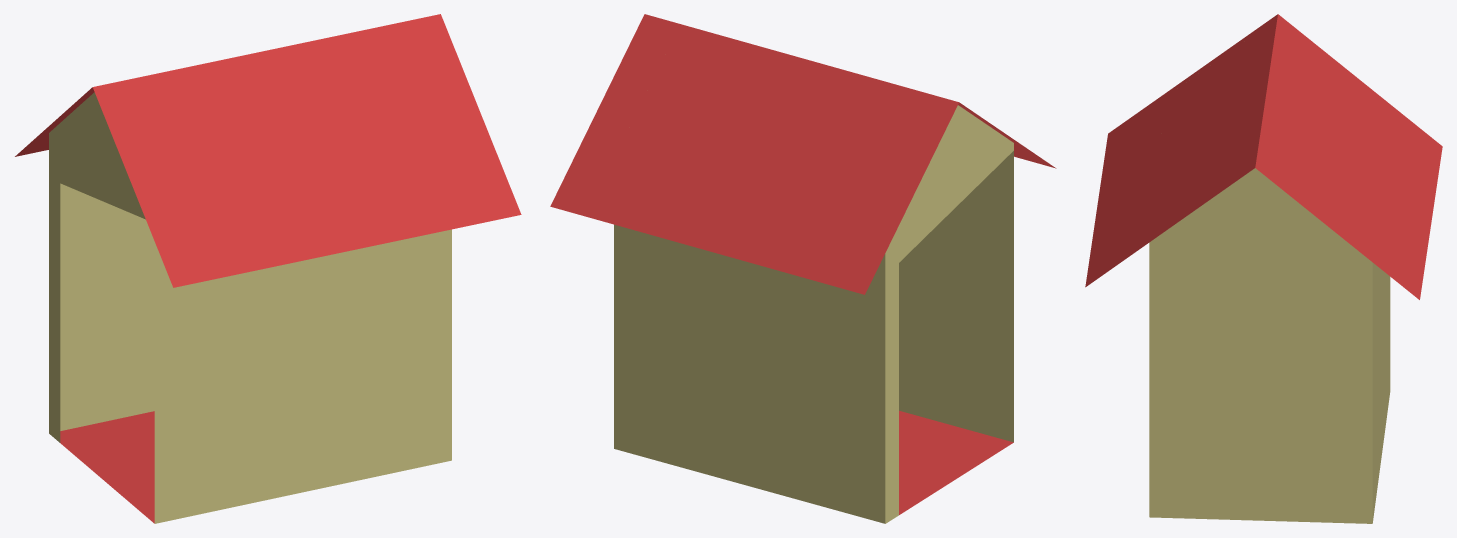
The picture shows the model from 3 angles, left to right: view 1: azimuth 30°, elevation 25°; view 2: azimuth 150°, elevation 25°; view 3: azimuth 270°, elevation 25°; orthographic projection. The views are drawn at different scales.
Bounding box in the file's own units: 9.65 × 8.95 × 10.23.
